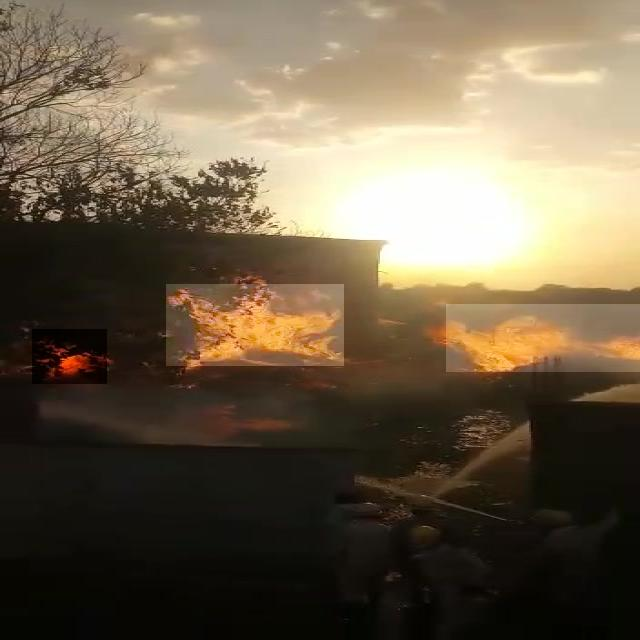Fire: (166, 284, 344, 366), (446, 304, 640, 372), (32, 329, 107, 384)
